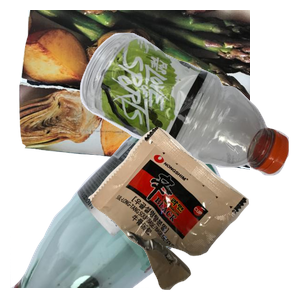glass: (10, 120, 224, 300)
paper: (16, 10, 256, 172)
plastic: (77, 30, 300, 198)
trash: (86, 124, 300, 300)
